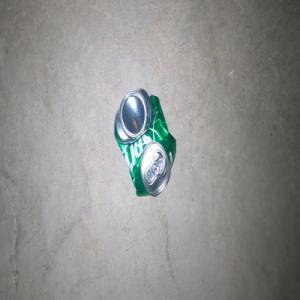SodaCan: (113, 87, 175, 196)
